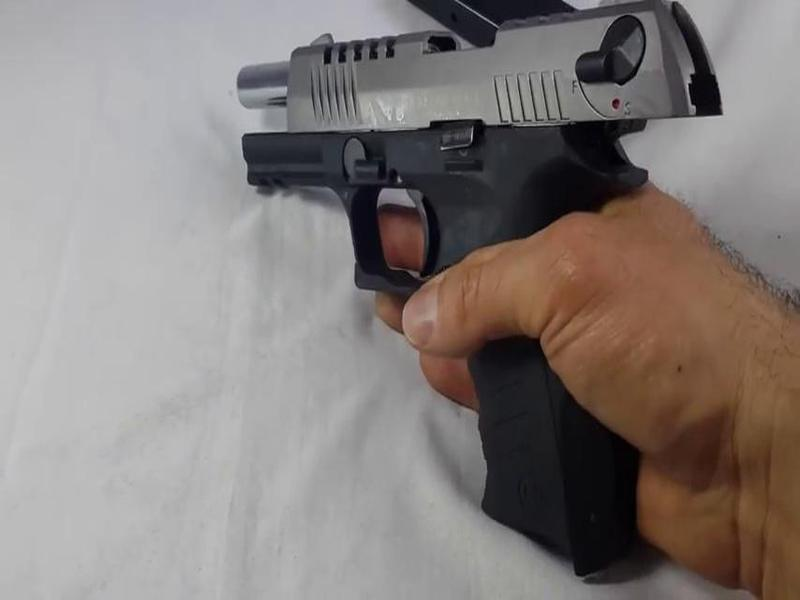Pistola: (211, 20, 775, 558)
